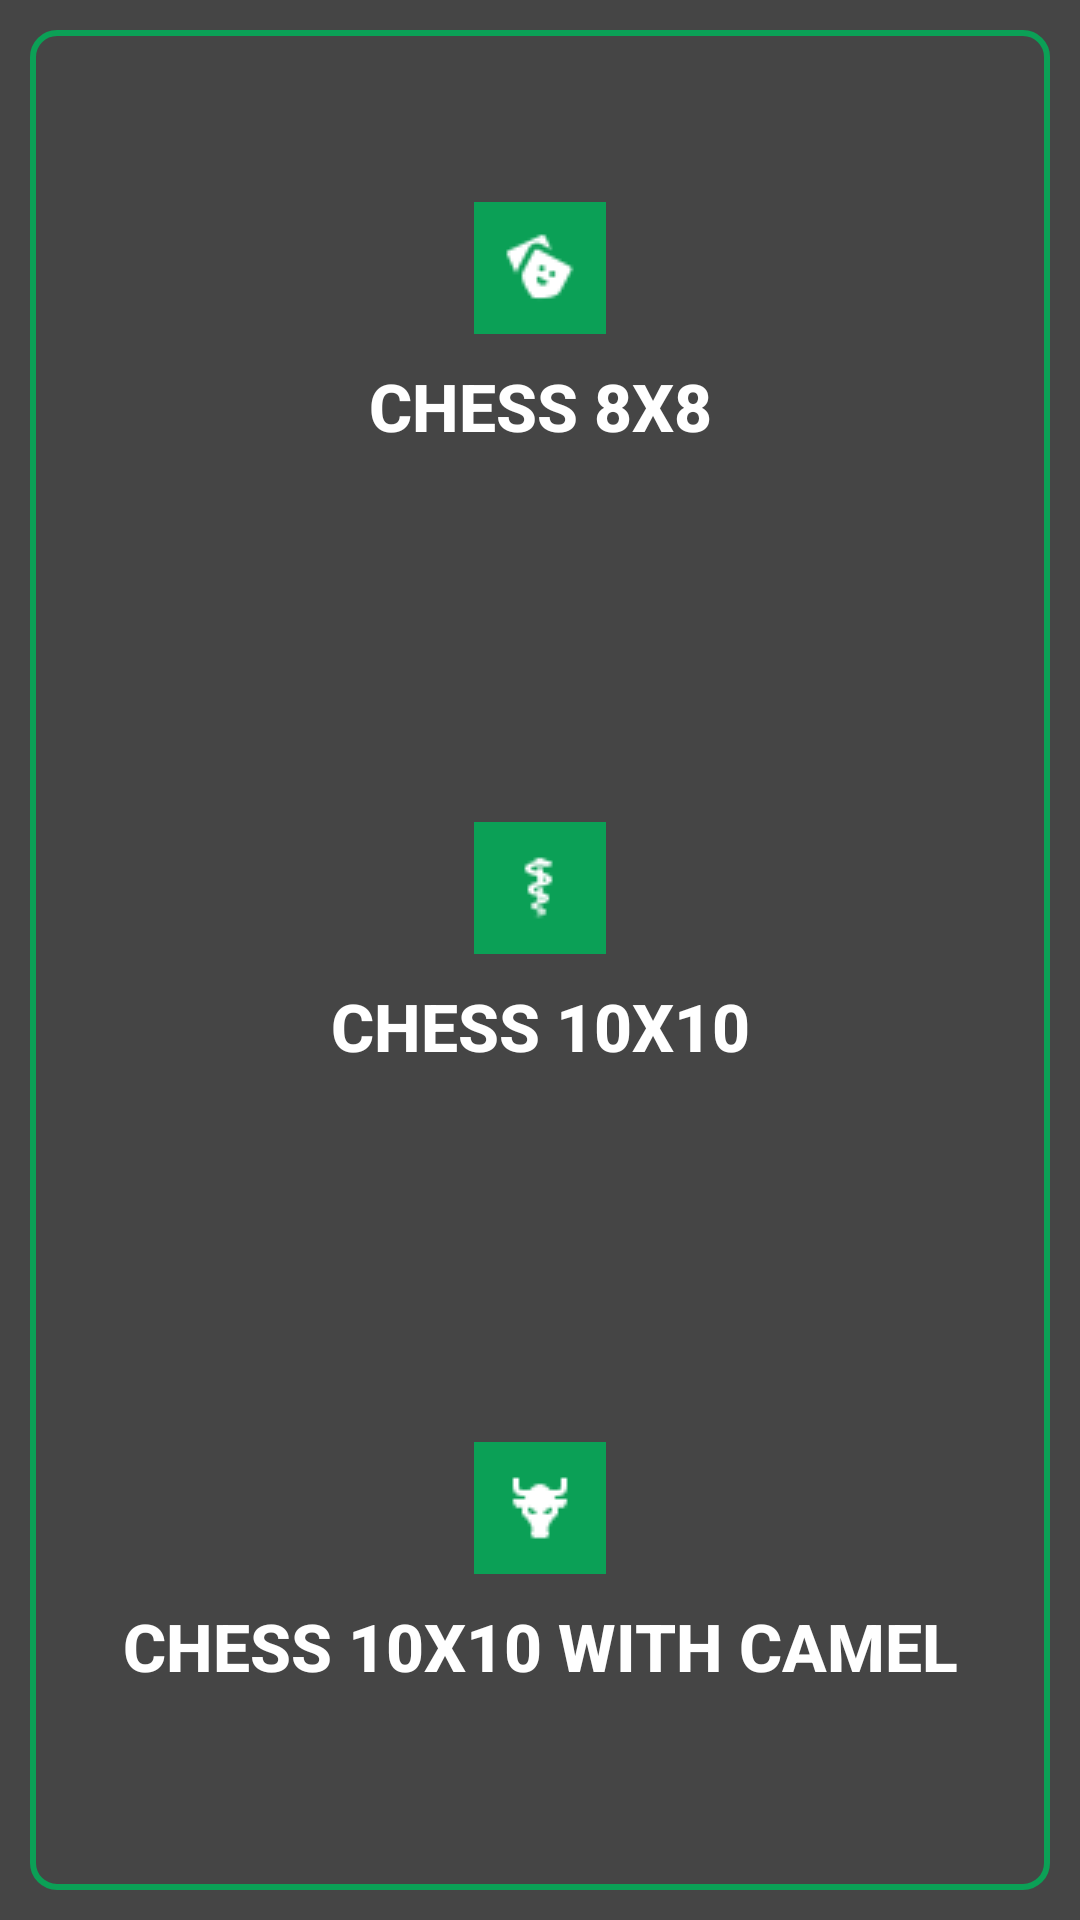

Where icons sit on this 1080w x 1920h app screen, as box=[x1, y1, x2, y2]:
bull: box=[474, 1442, 606, 1574]
snake: box=[474, 822, 606, 954]
